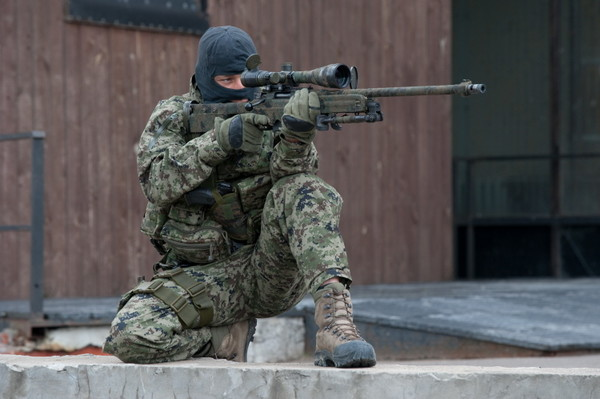Rifle: (179, 59, 490, 142)
